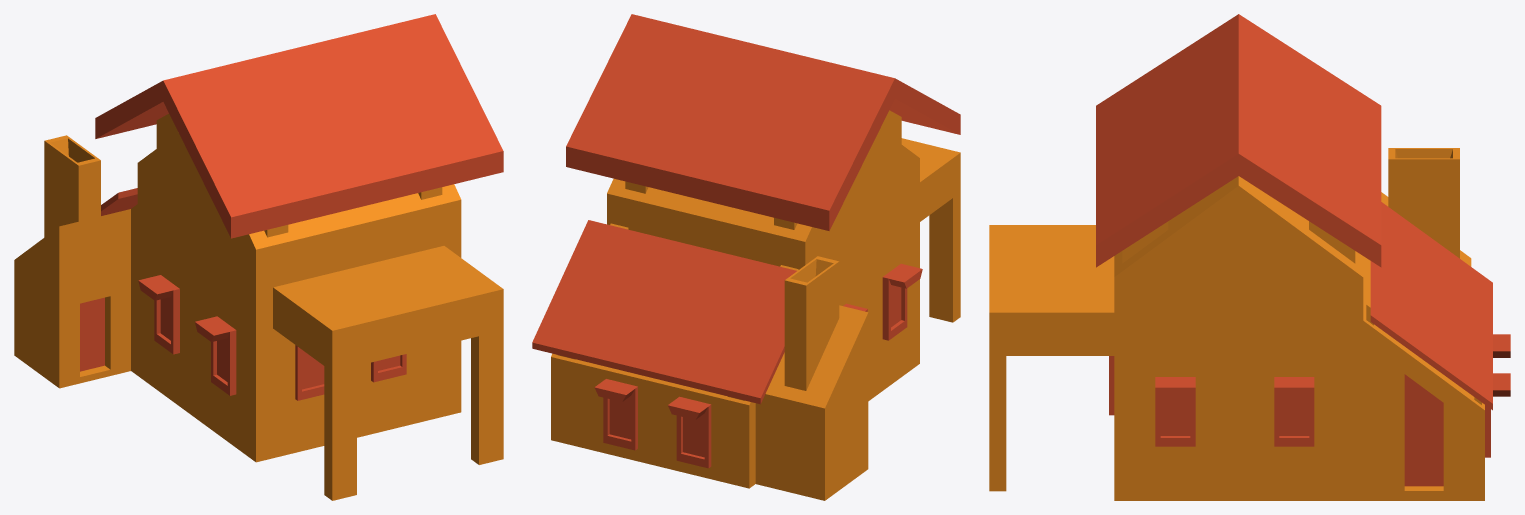
Rendered from house1.glb.
The picture shows the model from 3 angles, left to right: view 1: azimuth 30°, elevation 25°; view 2: azimuth 150°, elevation 25°; view 3: azimuth 270°, elevation 25°; orthographic projection. The views are drawn at different scales.
Visible parts, largest first — view 1: house2; view 2: house2; view 3: house2.
Part boxes in pixels (x1,y1,x2,y2): house2: (14, 14, 503, 500); house2: (532, 14, 960, 500); house2: (989, 14, 1510, 500).
Size of the model in its own units: 7.56 by 8.07 by 10.46.
Materials: 1 (1 with a texture image).
